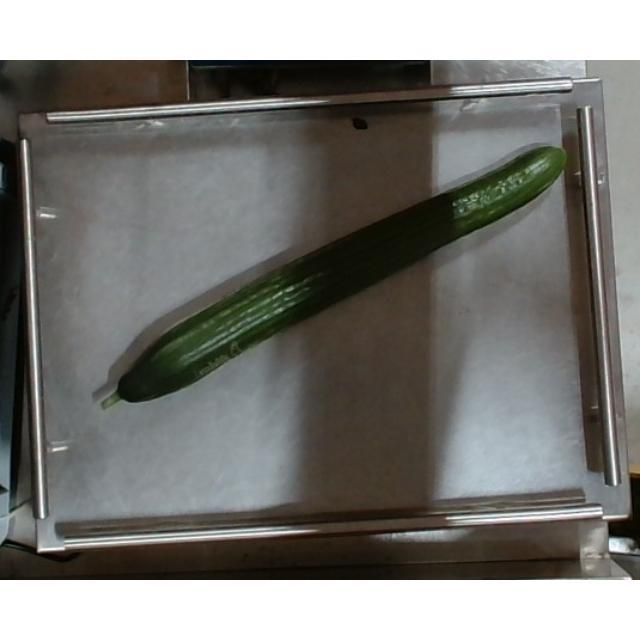cucumber: (105, 140, 570, 414)
